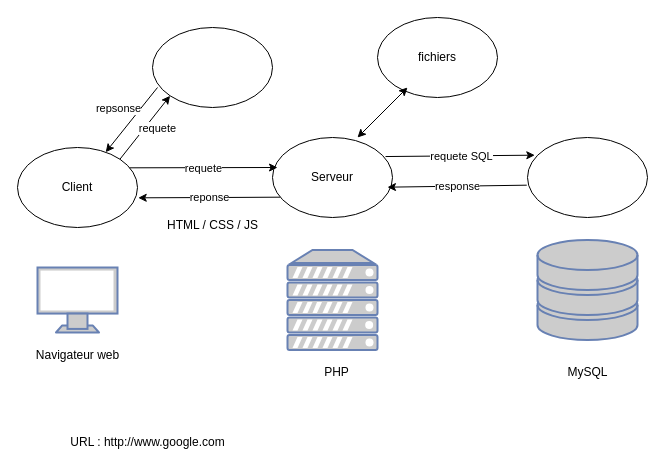
This 665x475 diagram has some shape labels left out. The shapes that lost their labels are listed below. From the top down, each one's centre as x and y in pixels, then its label:
At (x=212, y=67): "DNS".
At (x=587, y=177): "Base de données".
